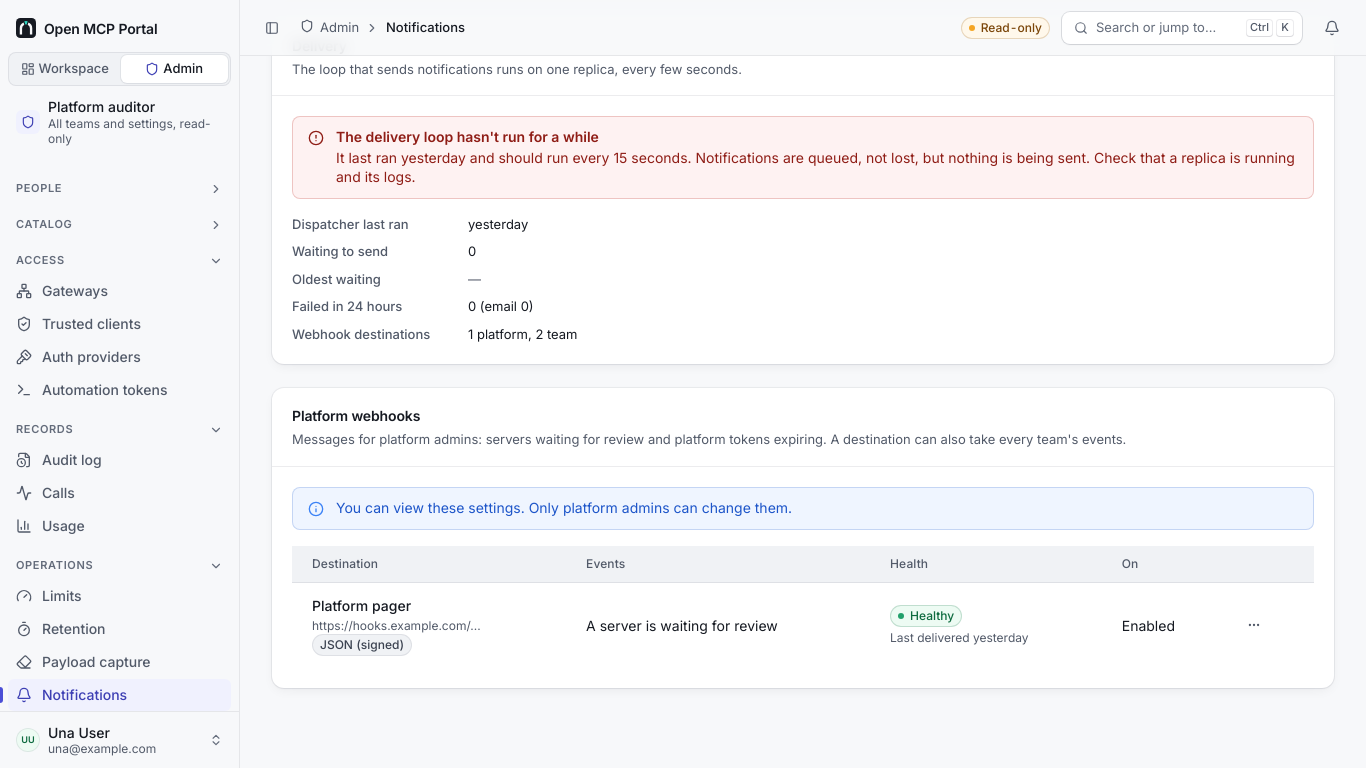
Scenario: Admin › Notifications › is read-only for auditors: status and list, no test email, no changes
(page scrolled)
Click the button named "Actions for Platform pager" at (1254, 626), box [1238,610,1270,642]
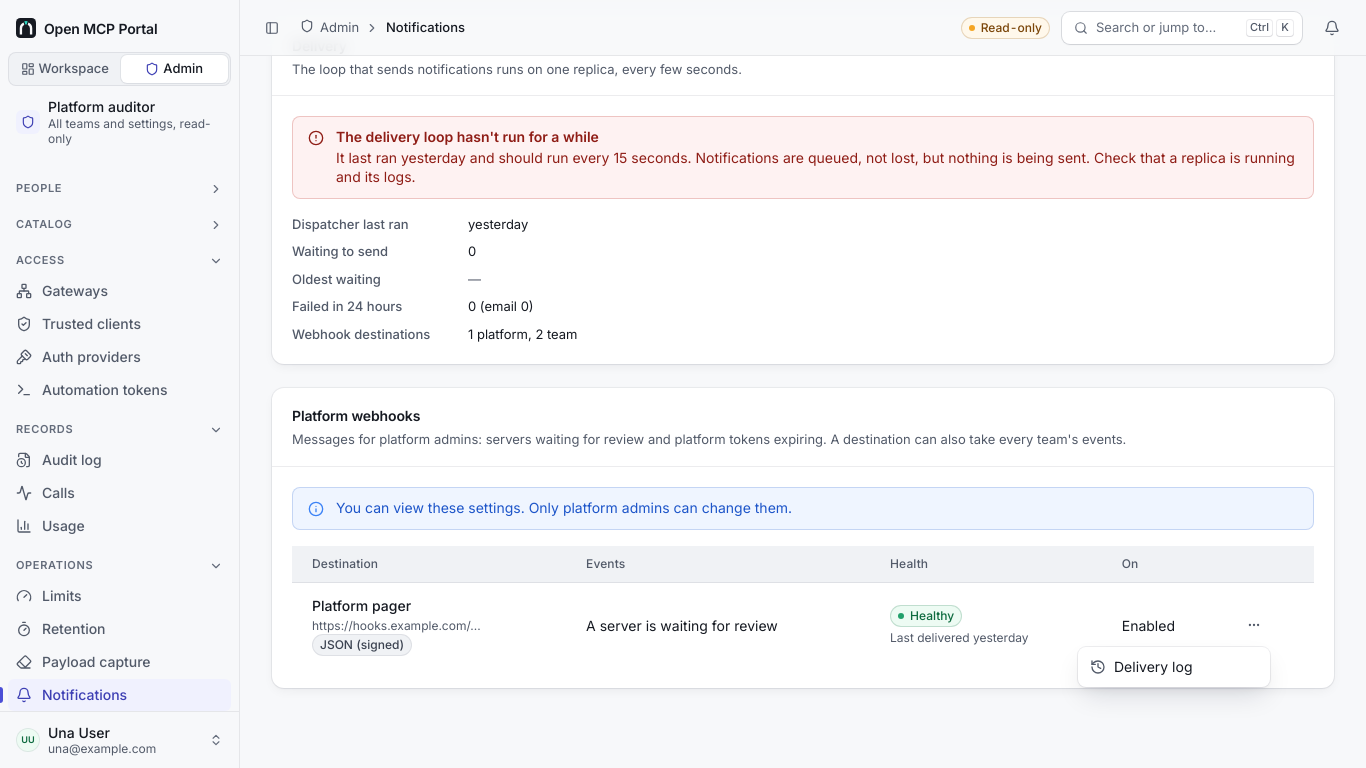
Expected: the menu items read "Delivery log", in this order, [1090,658,1192,675]
